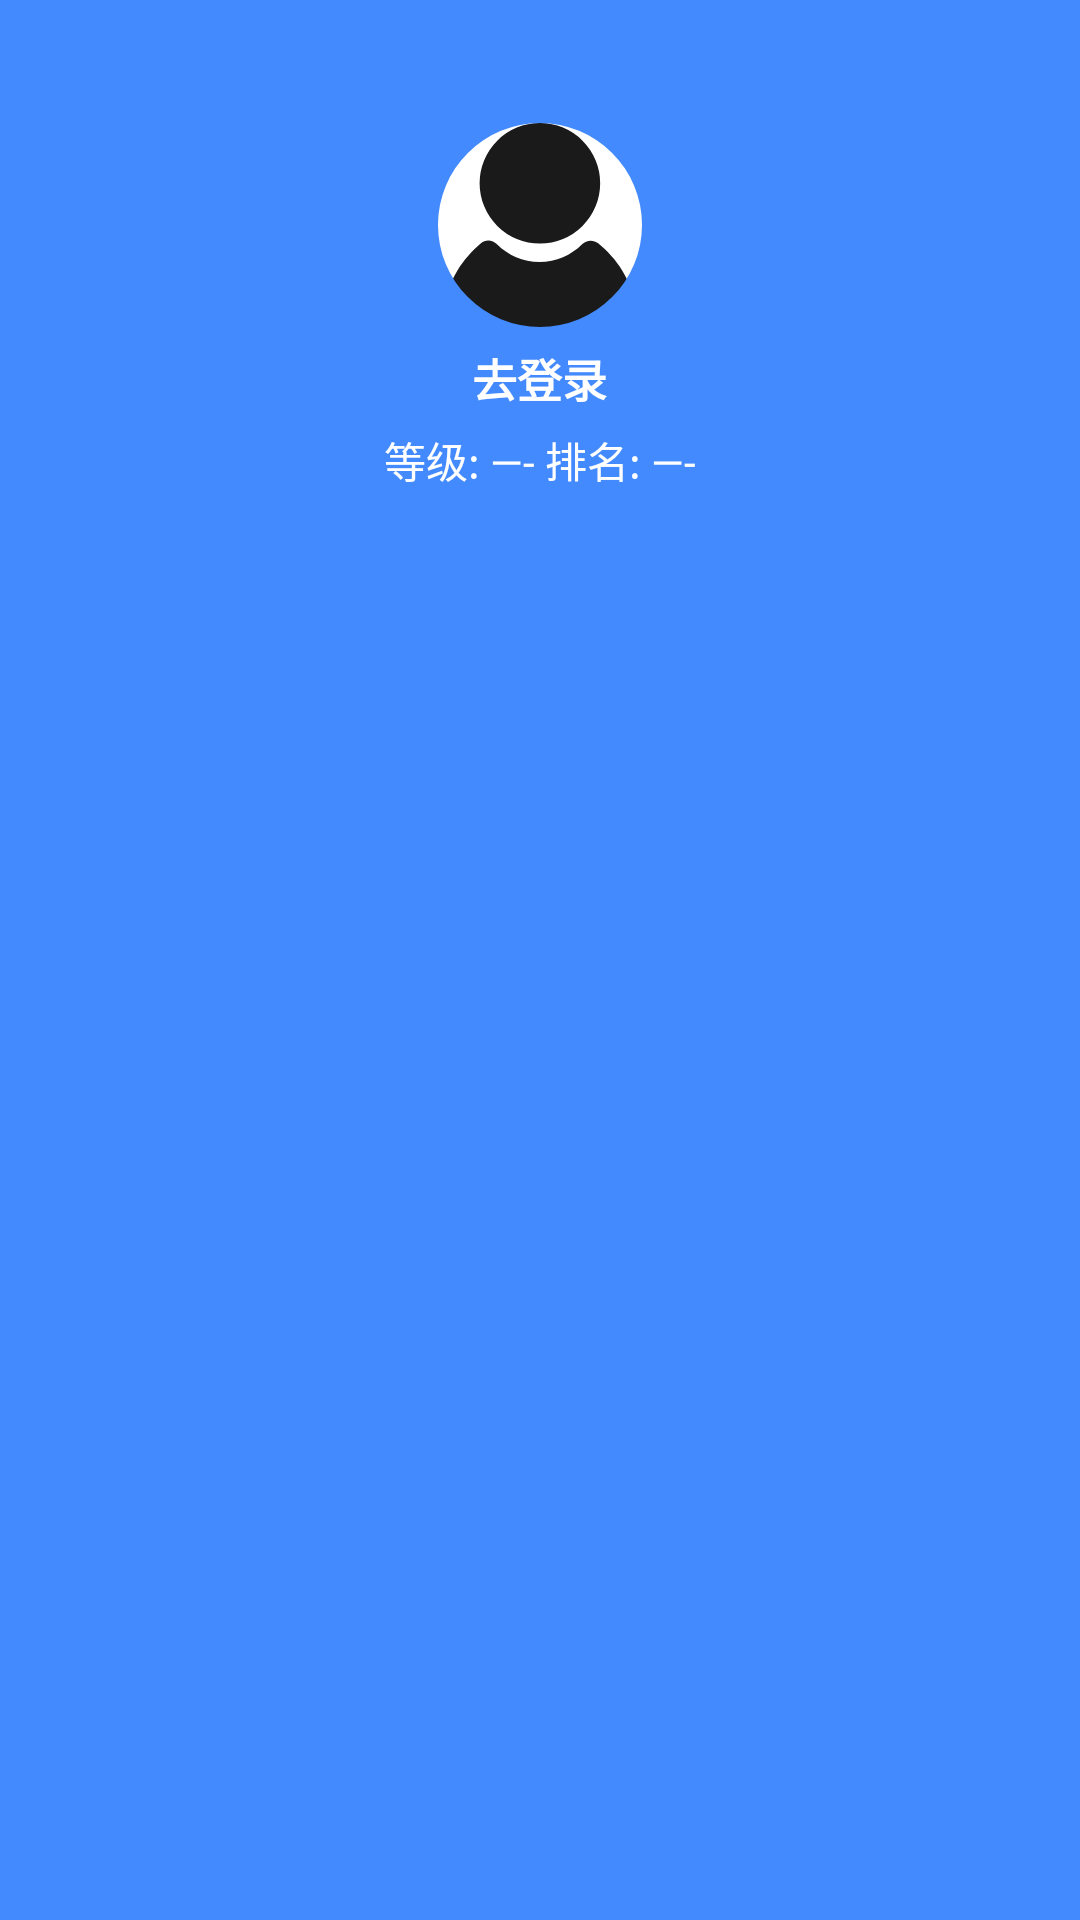

Where to tap for icons on this 1080px x 1920px app screen, as (x=x, y=y):
user: (x=540, y=225)
